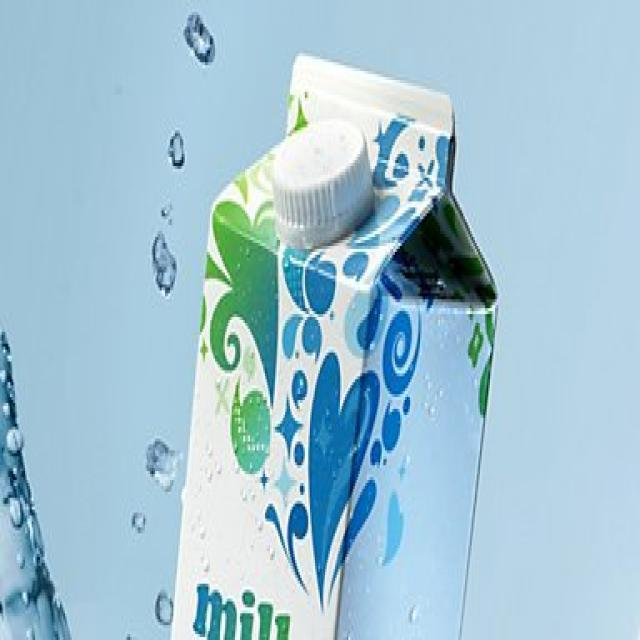Carton: (160, 35, 504, 640)
